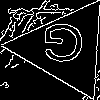G: (40, 23, 87, 72)
